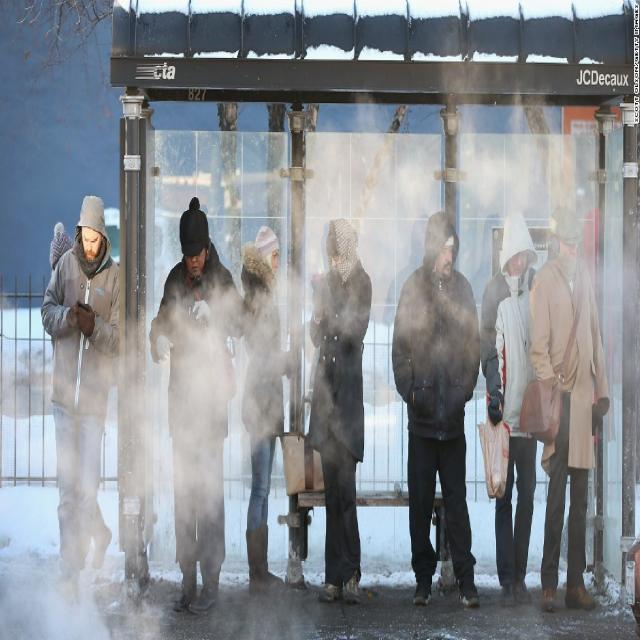body: (144, 190, 250, 624), (515, 200, 613, 616), (390, 205, 484, 611), (39, 192, 121, 608), (306, 213, 374, 609), (42, 216, 116, 574), (476, 207, 539, 610), (240, 224, 296, 595)
